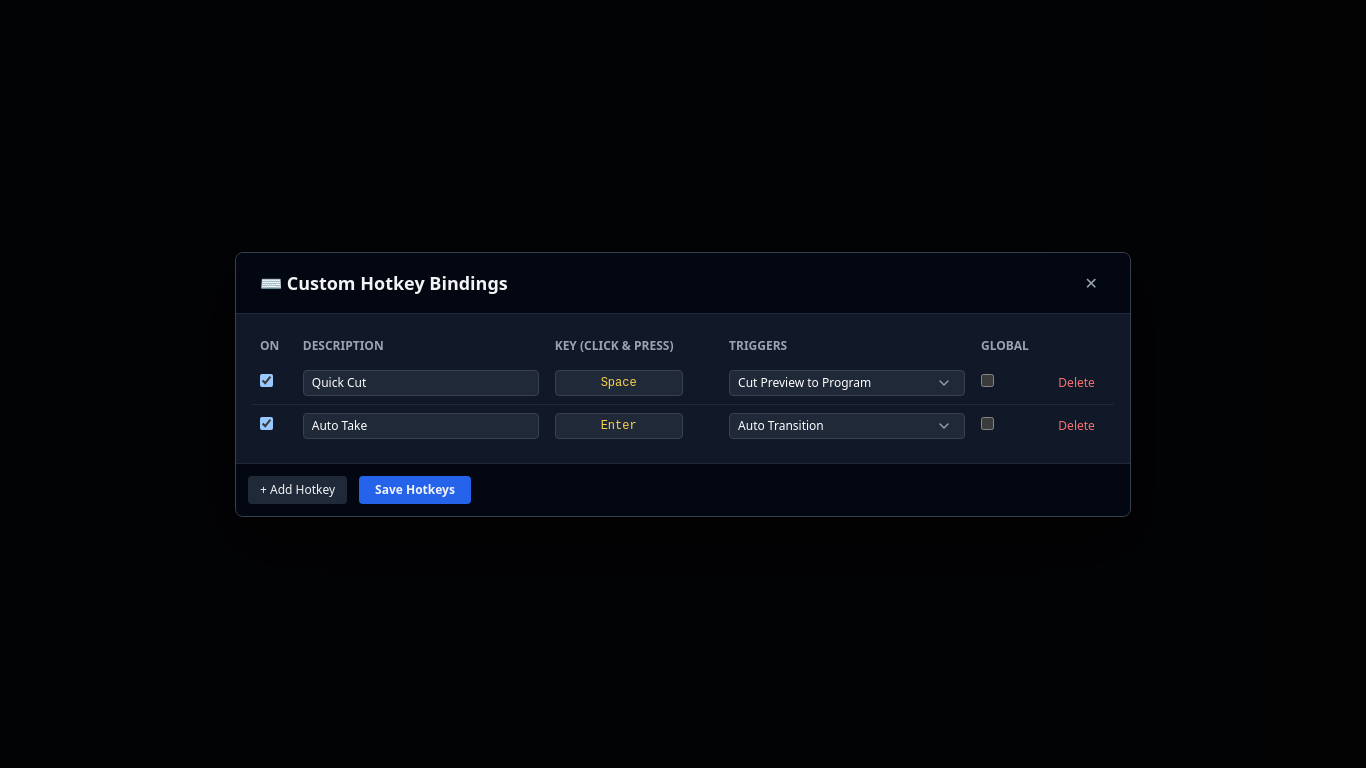
LiveStudio Pro Phase 9 Advanced Automation & Control Surfaces › checks hotkey management and conflict detection in HotkeySettingsModal
Expected: the heading "⌨ Custom Hotkey Bindings" is shown, [260,268,508,296]
Expected: the 2nd field showing "Space" is shown, [555,370,683,396]
# Add a conflicting hotkey
Step 1. Click the button "+ Add Hotkey" → (298, 490), box [248,476,347,504]
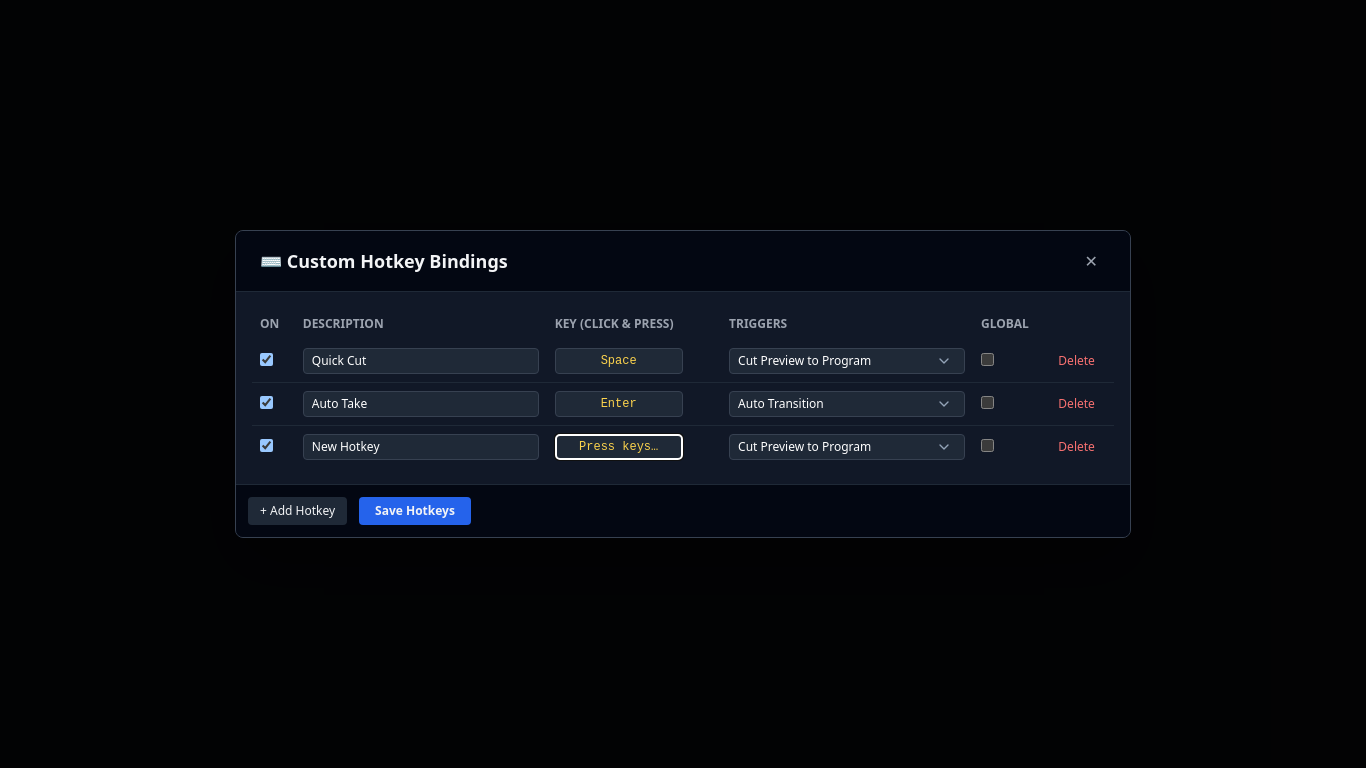
# Capture "Space" on the new (empty) hotkey to trigger the conflict detector
Step 2. Press Space in the 6th field showing "Press keys…", box [555,434,683,460]
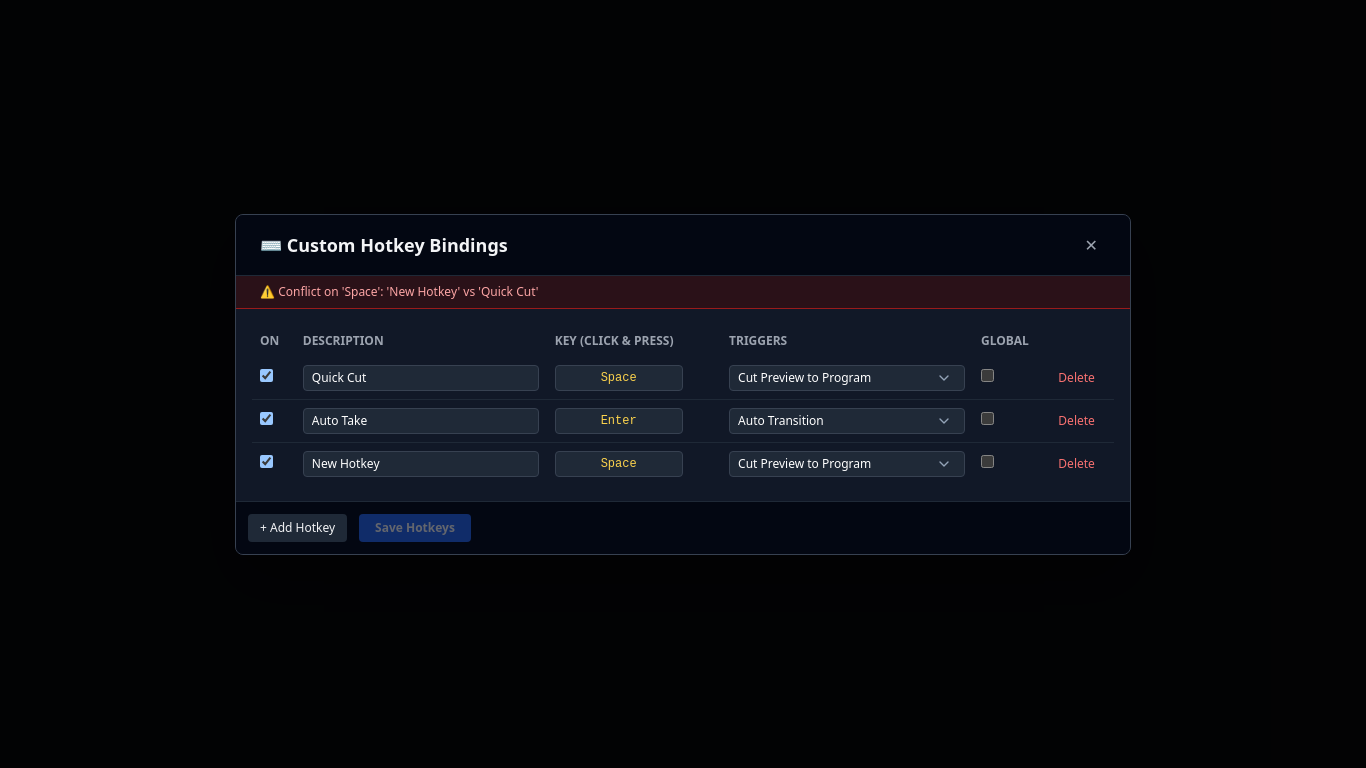
Now the text "⚠ Conflict on 'Space': 'New Hotkey' vs 'Quick Cut'" is shown, box [260,282,538,300]
